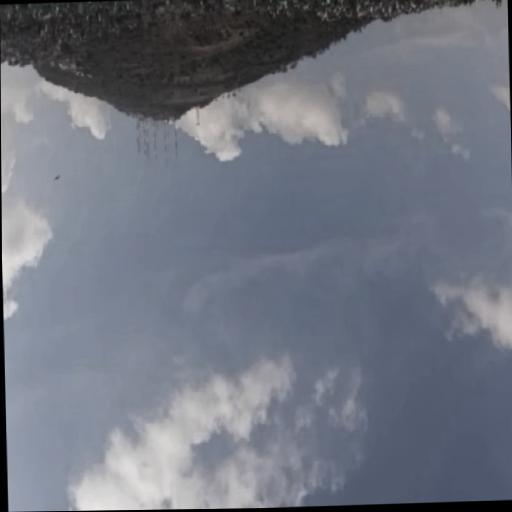drones: (49, 170, 62, 189)
